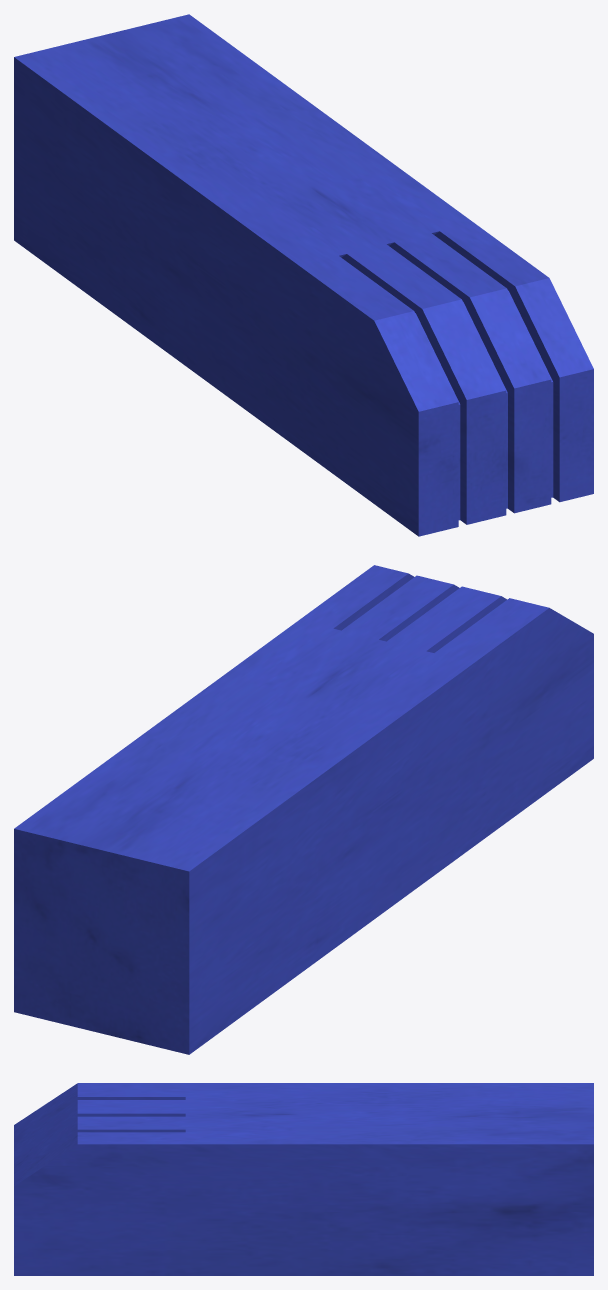
The model's file is catslair-claw.fbx.
The picture shows the model from 3 angles, top to bottom: view 1: azimuth 30°, elevation 25°; view 2: azimuth 150°, elevation 25°; view 3: azimuth 270°, elevation 25°; orthographic projection. The views are drawn at different scales.
Visible parts, largest first — view 1: Cube; view 2: Cube; view 3: Cube.
Boxes of the visible parts, x1,y1,x2,y2 form: Cube: (14,14,593,536); Cube: (14,565,593,1054); Cube: (14,1083,593,1275).
Bounding box in the file's own units: 100 × 100 × 400.
1 material, 1 textured.
